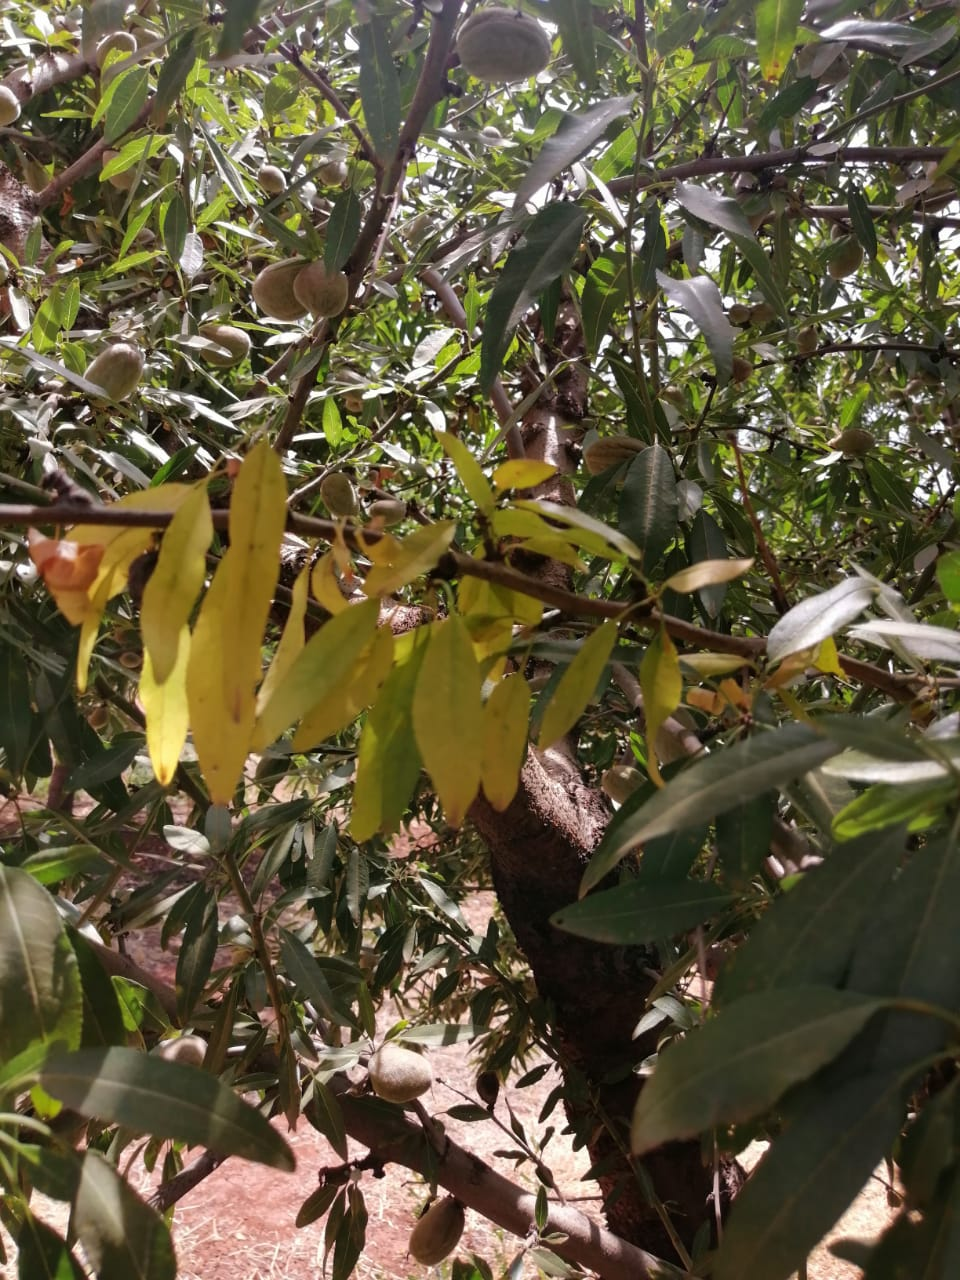chancre fusicocum: (29, 430, 857, 845)
